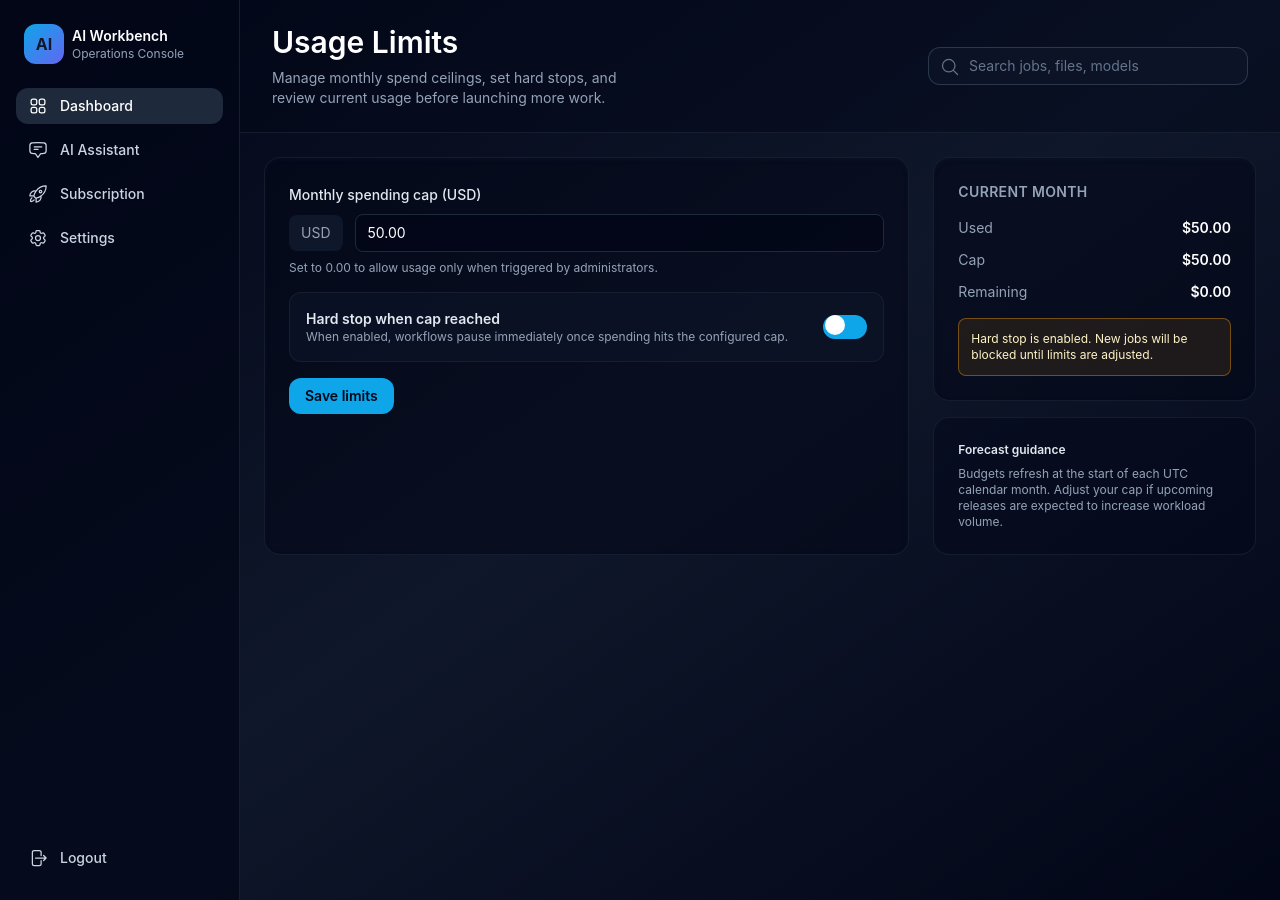
Test case: shows exact warning copy when cap reached error occurs
This screenshot has width=1280, height=900.
Click the button "Save limits" at x=341, y=396, box 289,378 -> 394,414
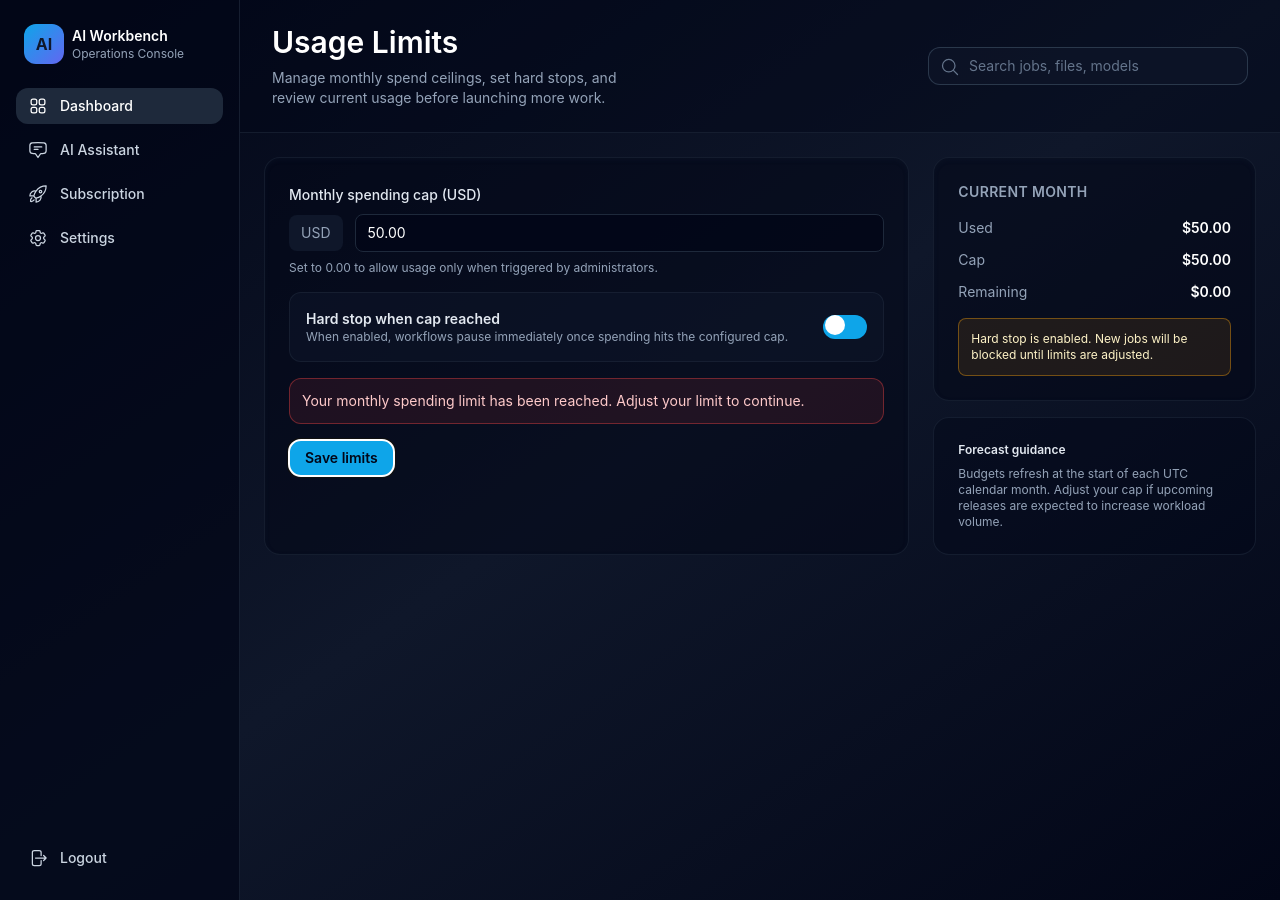
Result: the text "Your monthly spending limit has been reached. Adjust your limit to continue." is shown at 289,378 -> 884,424
